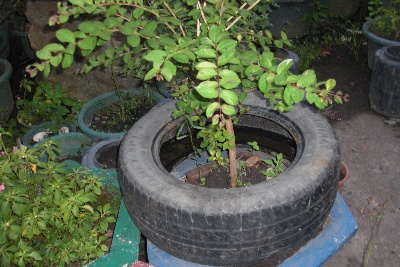tire: (117, 86, 341, 264)
